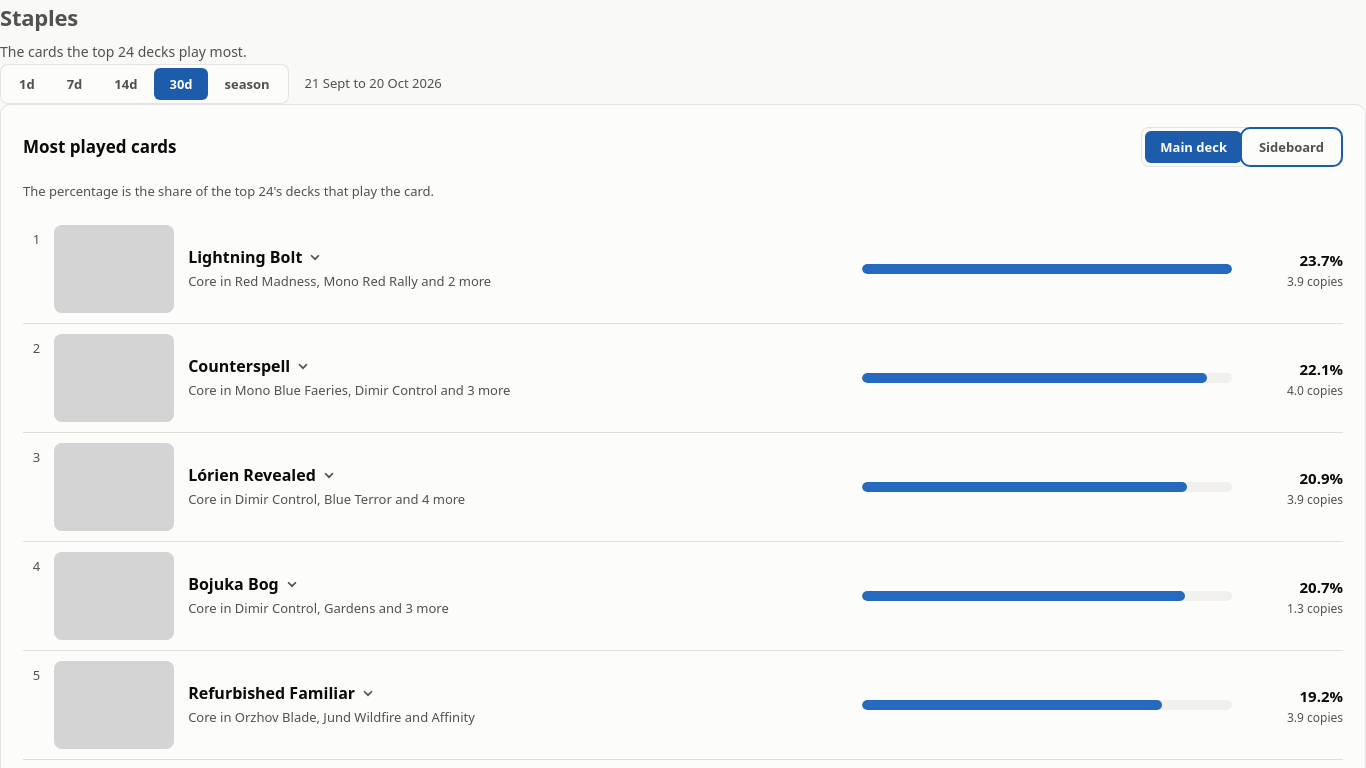
StaplesPage › shows the skeleton, not the main deck, while the sideboard loads, and keeps focus on the switch
This screenshot has width=1366, height=768.
expect the text "Lightning Bolt" is shown: met, box [188,247,302,267]
Click the button "Sideboard". click: (1292, 147)
box: [1244,131,1339,163]
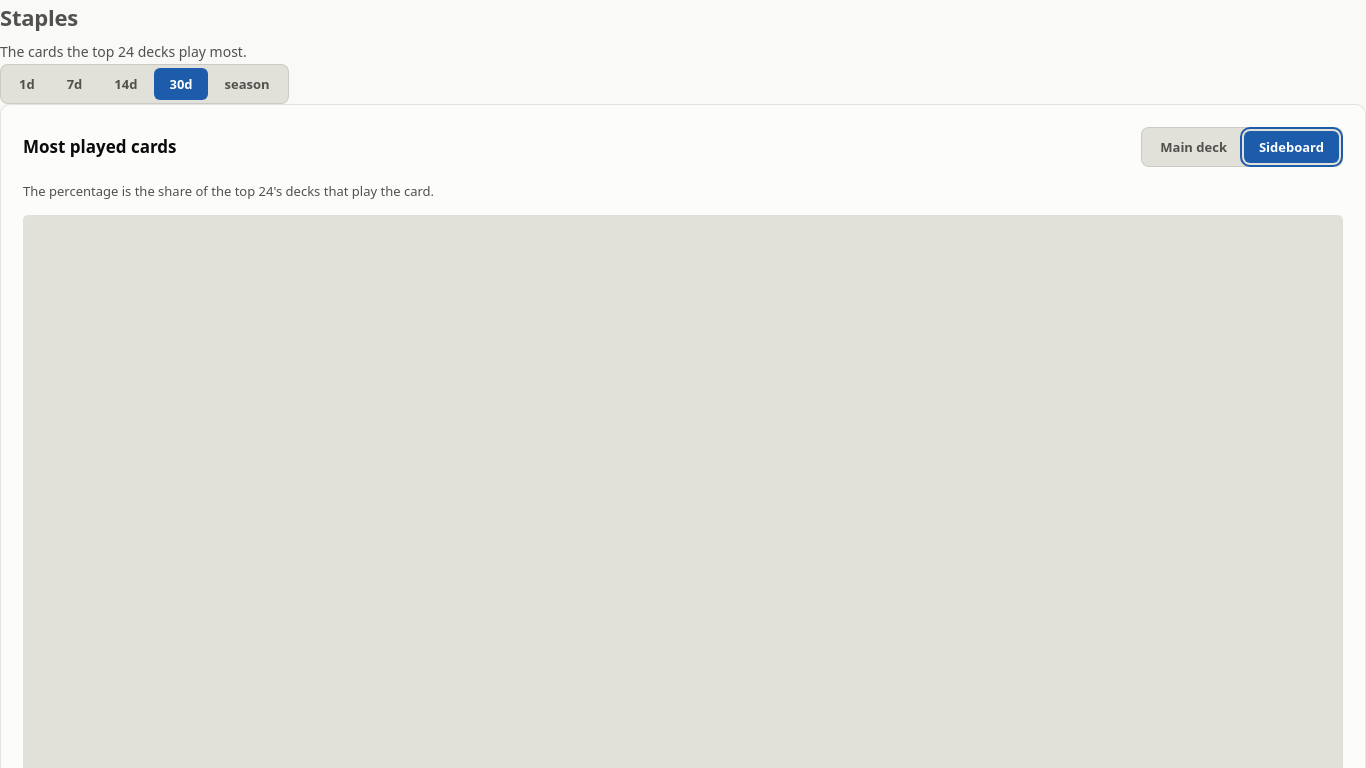
expect the button "Lightning Bolt" is gone: met
expect the text "21 Sept to 20 Oct 2026" is gone: met
